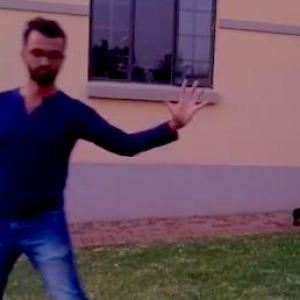follow_hand: (162, 74, 212, 124)
